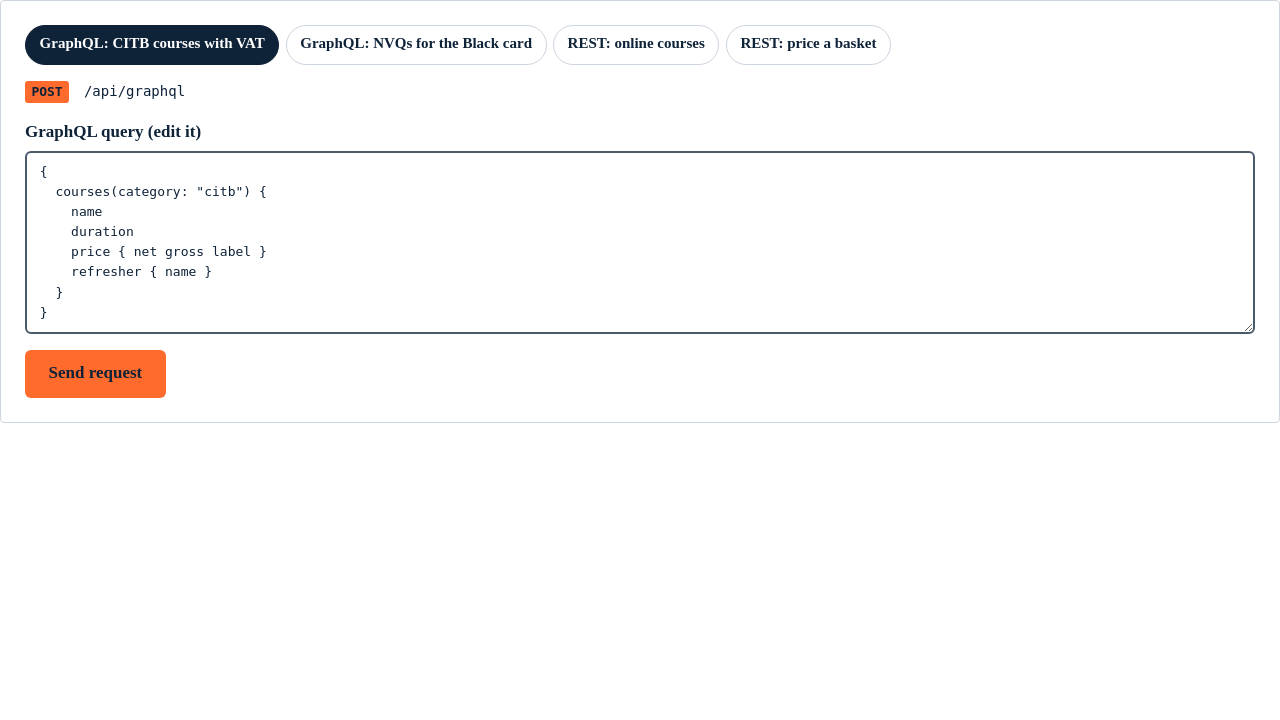
Test: <ApiPlayground /> › says so when the request fails
Click the button "Send request" at (95, 374), box [25,350,166,398]
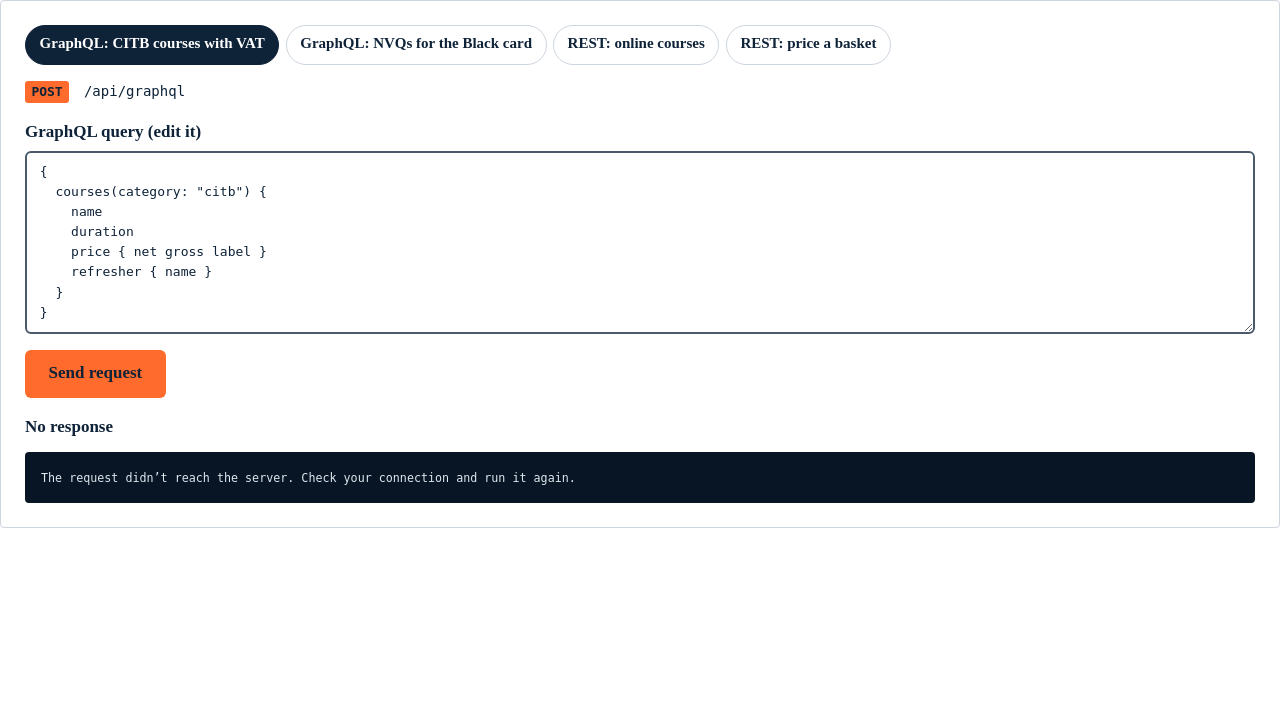
Check: the text "didn’t reach the server" is shown, box [41,471,576,485]
